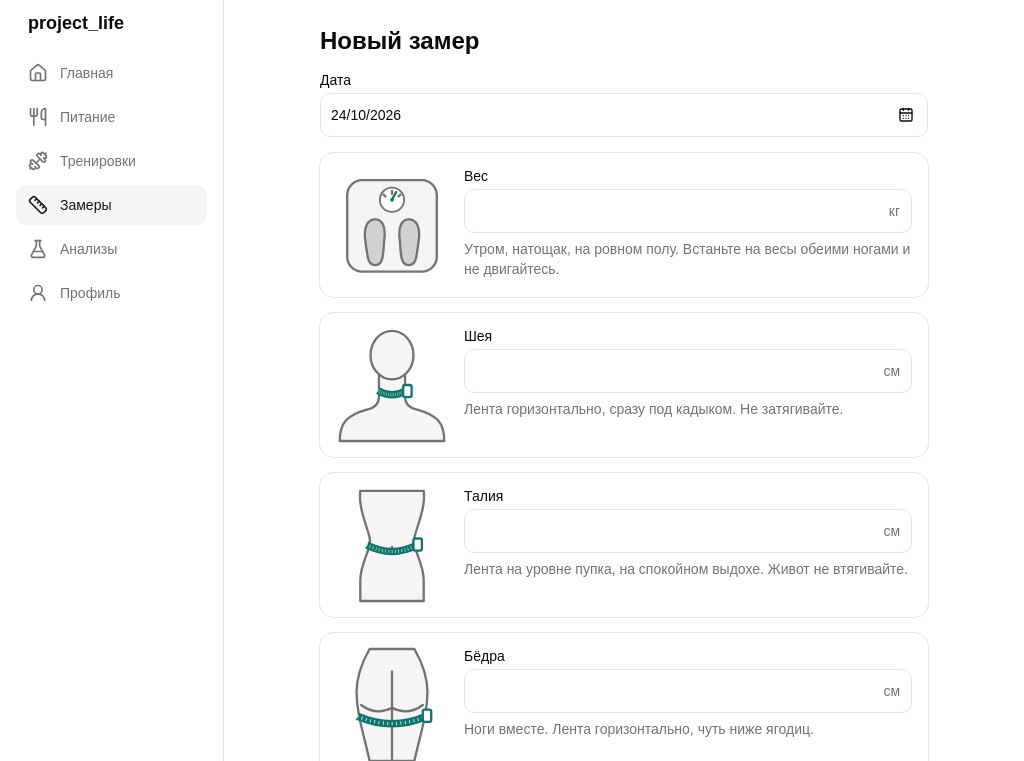
Test: новый замер › сохраняет только заполненные показатели и возвращает на главную
Type "72,4" into the field labelled "Вес" at (688, 211), box [464,189,912,233]
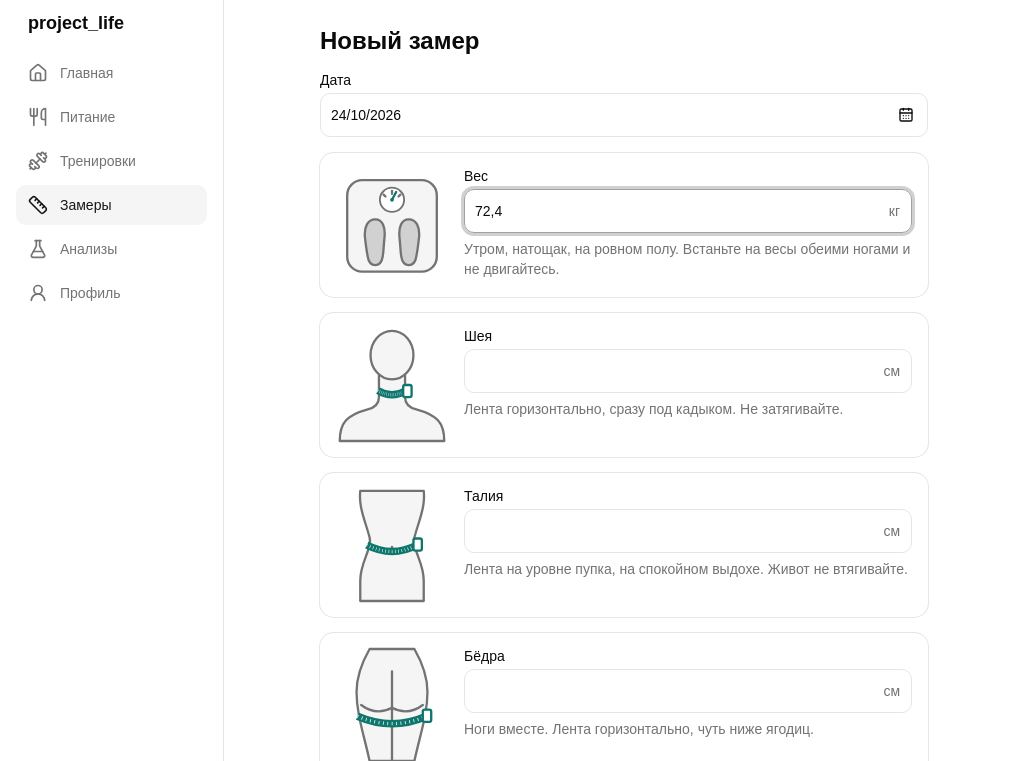
Type "86" into the field labelled "Талия" at (688, 531), box [464,509,912,553]
(page scrolled)
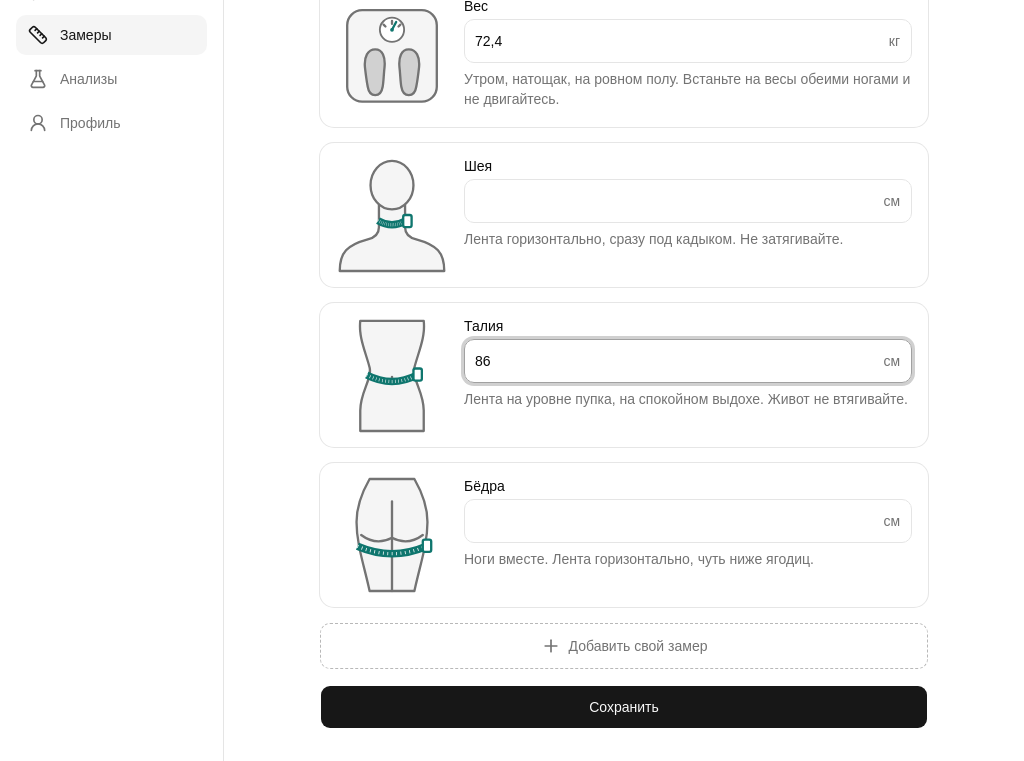
Click the button "Сохранить" at (624, 707), box [320,685,928,729]
(page scrolled)
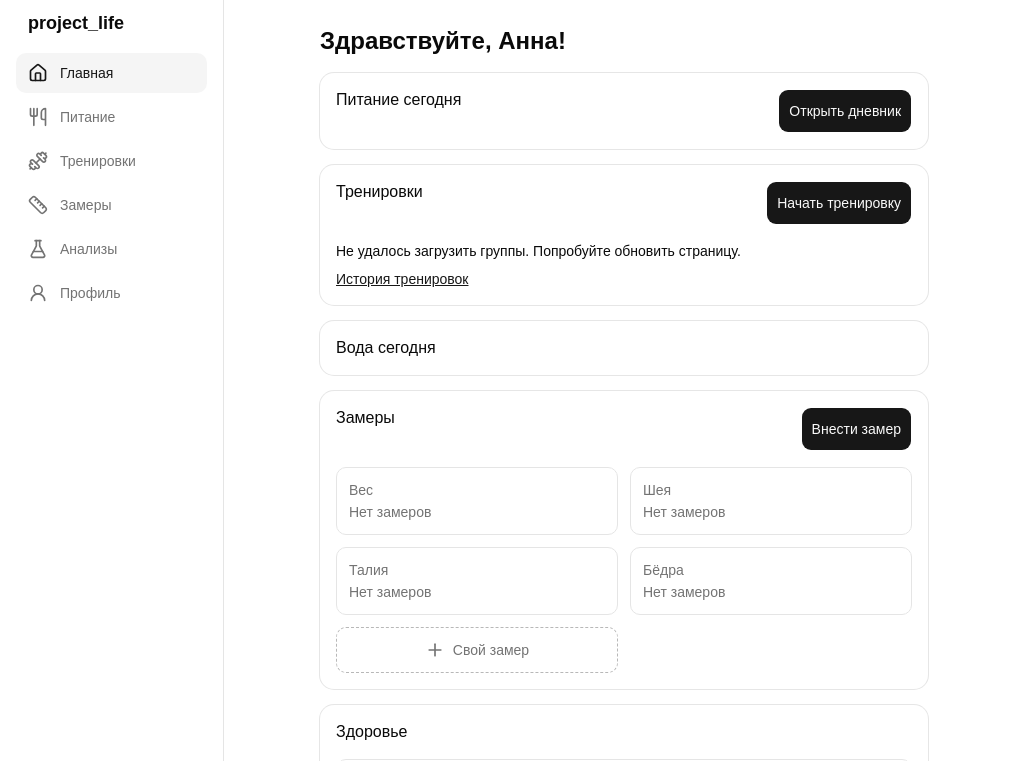
Result: the heading "Здравствуйте, Анна!" is shown at [320,27,566,54]
